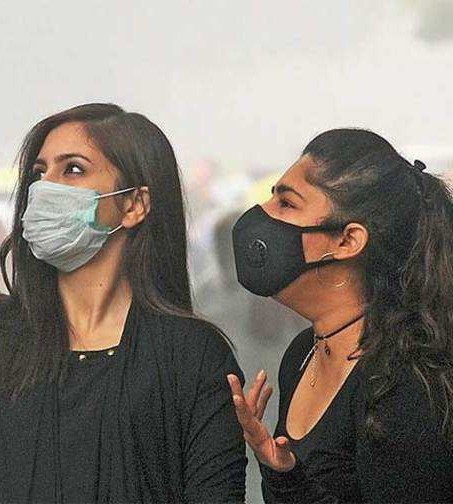with_mask: (231, 154, 379, 342), (15, 126, 156, 287)
